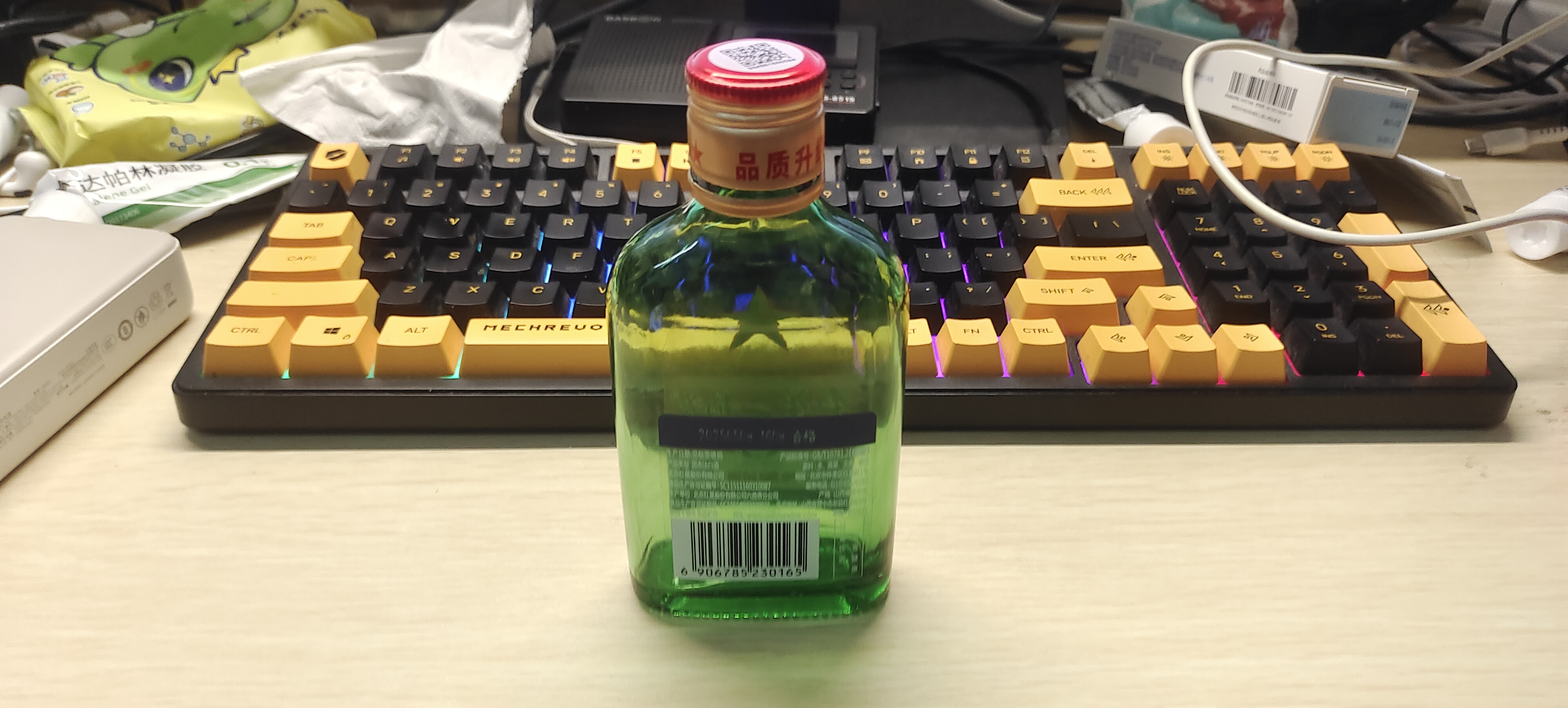redbull: (583, 55, 965, 672)
